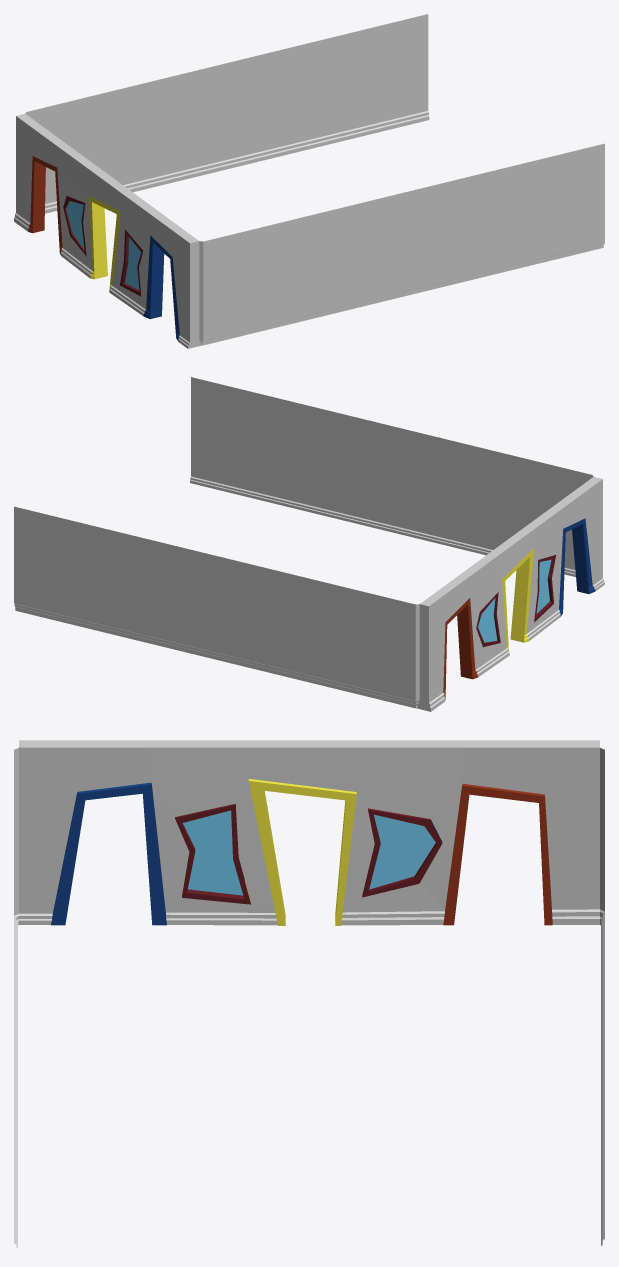
Rendered from Mur_V2 1.fbx.
The picture shows the model from 3 angles, top to bottom: view 1: azimuth 30°, elevation 25°; view 2: azimuth 150°, elevation 25°; view 3: azimuth 270°, elevation 25°; orthographic projection. The views are drawn at different scales.
Parts seen in each view (by area): view 1: Mur.côté_V2, Mur_Porte_V1; view 2: Mur.côté_V2, Mur_Porte_V1; view 3: Mur_Porte_V1, Mur.côté_V2.
Boxes of the visible parts, x1=… form: Mur.côté_V2: x1=26, y1=14, x2=604, y2=345; Mur_Porte_V1: x1=14, y1=112, x2=203, y2=348; Mur.côté_V2: x1=14, y1=377, x2=592, y2=708; Mur_Porte_V1: x1=415, y1=475, x2=604, y2=711; Mur_Porte_V1: x1=14, y1=740, x2=604, y2=925; Mur.côté_V2: x1=14, y1=912, x2=604, y2=1247.
Bounding box in the file's own units: 2075 × 500 × 1526.
